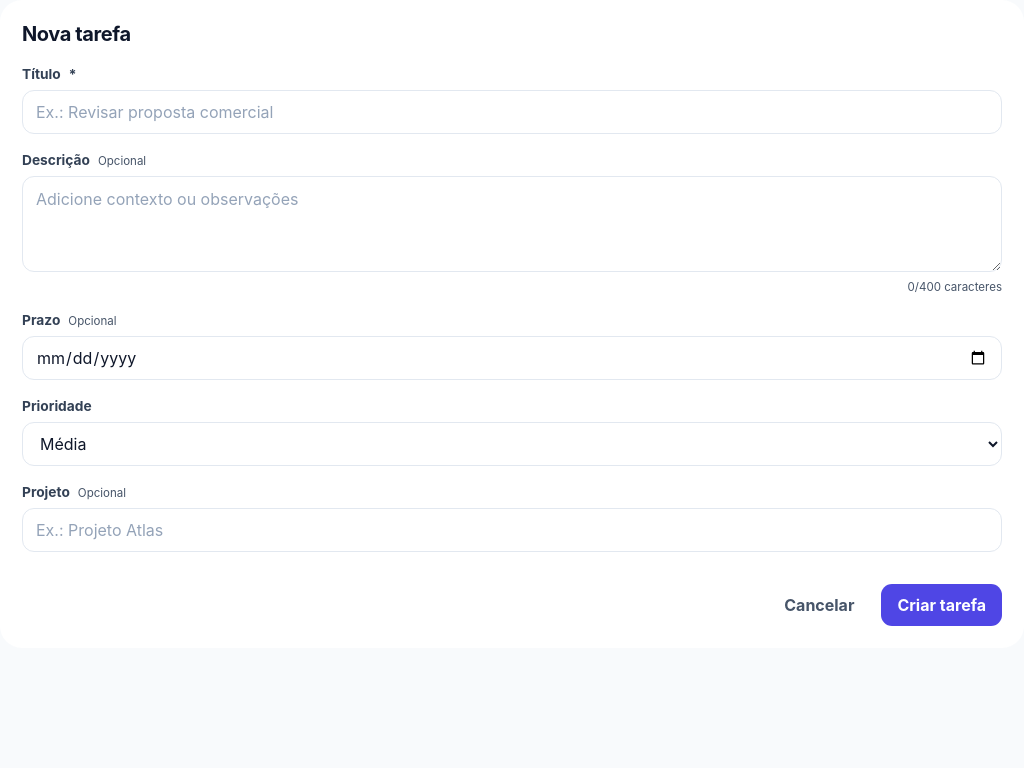
TaskForm › mantém os campos quando salvar falha e permite tentar novamente
Type "Preservar preenchimento" into the field labelled "Título *" at (512, 112), box top-left (22, 90), bottom-right (1002, 134)
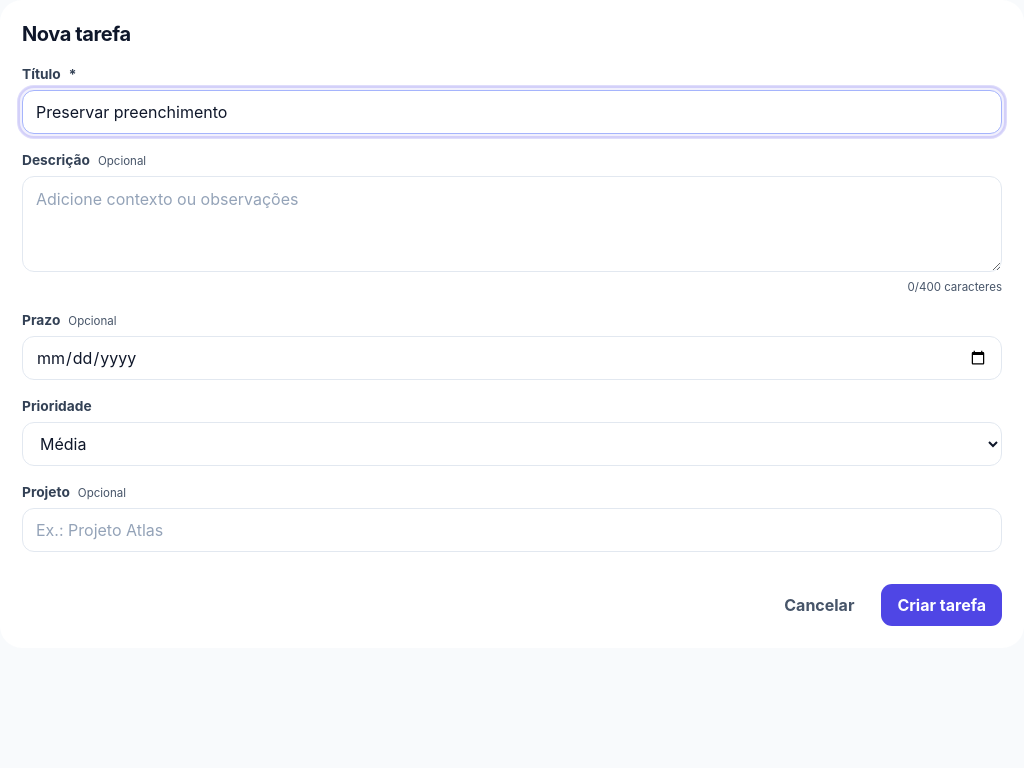
Type "Observação importante" into the text box labelled "Descrição Opcional" at (512, 224), box top-left (22, 176), bottom-right (1002, 272)
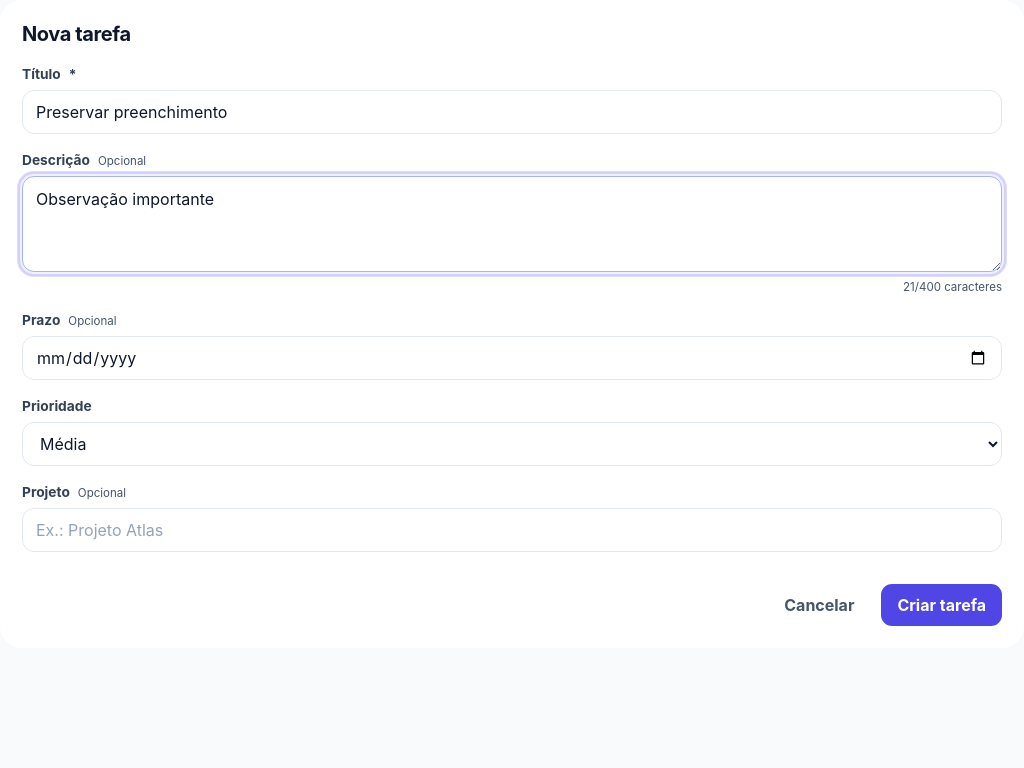
Click the button "Criar tarefa" at (942, 605), box top-left (881, 584), bottom-right (1002, 626)
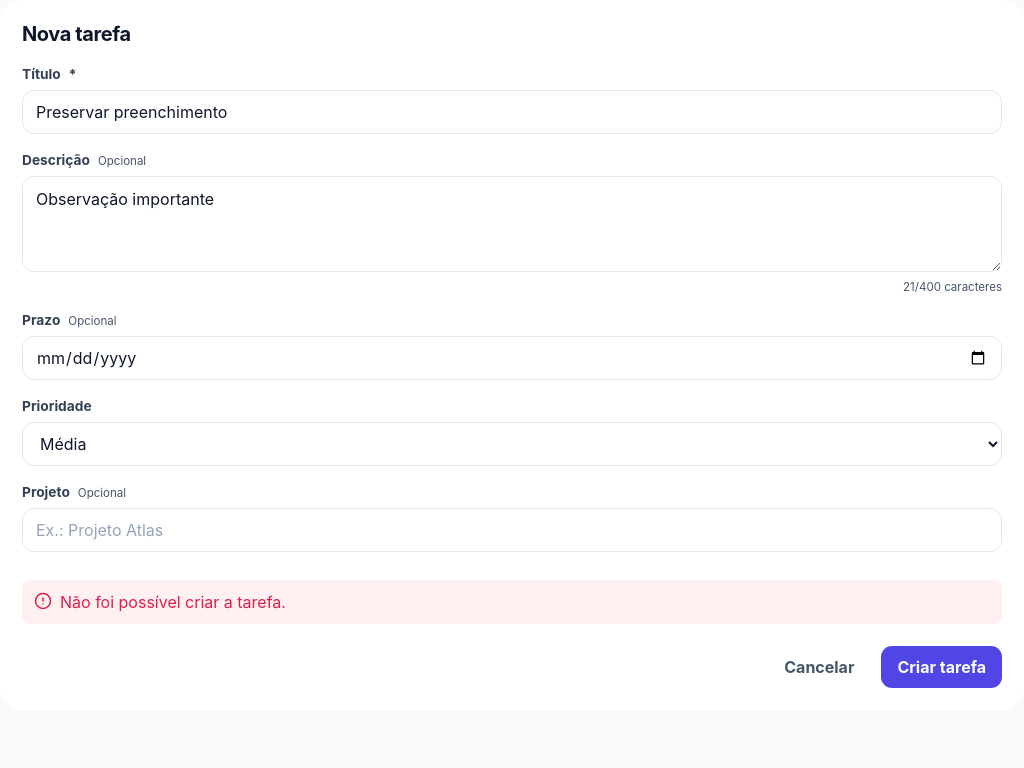
Expected: the message shows "Não foi possível criar", top-left (60, 592), bottom-right (286, 612)
Click the button "Criar tarefa" at (942, 667), box top-left (881, 646), bottom-right (1002, 688)
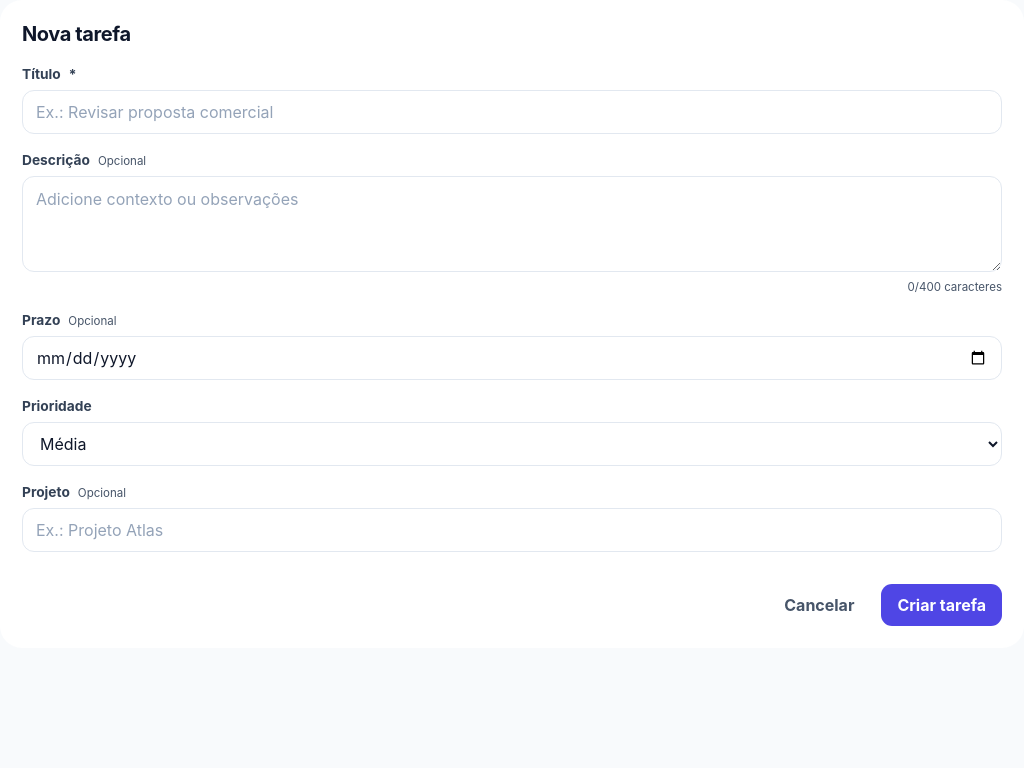
Expected: the message "Não foi possível criar a tarefa." is gone
